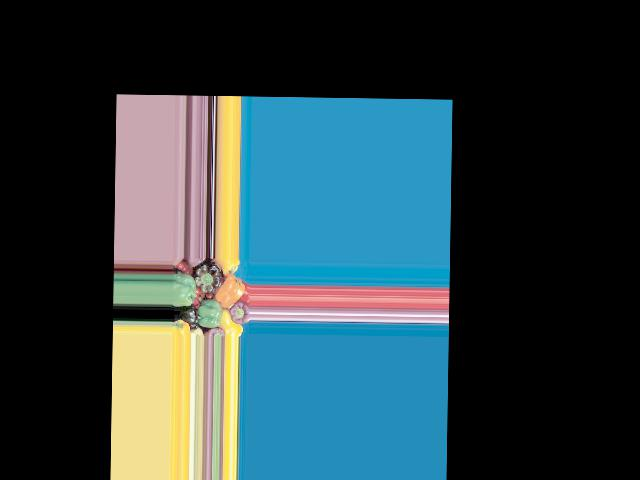bell_pepper: (171, 271, 193, 305)
